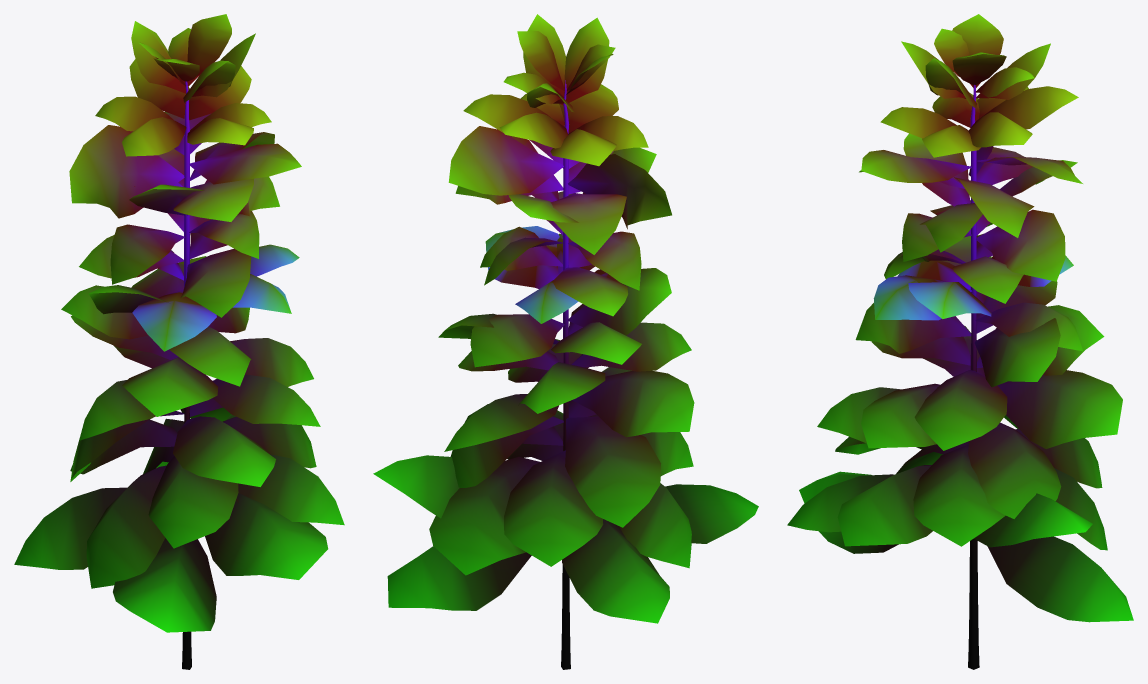
The model's file is SM_Artemisia.fbx.
3 renders of one model, left to right at view 1: azimuth 30°, elevation 25°; view 2: azimuth 150°, elevation 25°; view 3: azimuth 270°, elevation 25°, orthographic.
Visible parts, largest first — view 1: Box002; view 2: Box002; view 3: Box002.
Part boxes in pixels (left/top/right/bottom): Box002: left=14, top=14, right=344, bottom=669; Box002: left=373, top=14, right=758, bottom=669; Box002: left=787, top=14, right=1133, bottom=669.
Bounding box in the file's own units: 48.6 × 109 × 53.86.
